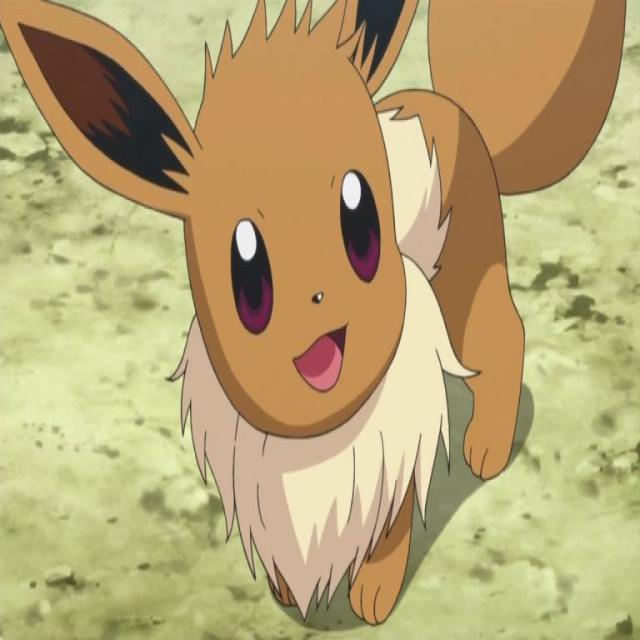Eevee: (153, 1, 527, 604)
